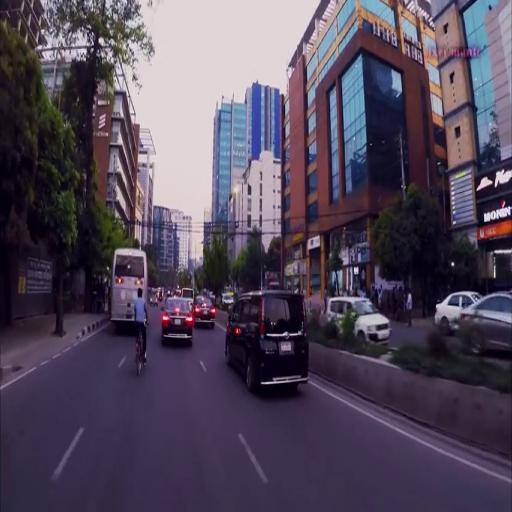bicycle: (134, 328, 149, 376)
bus: (110, 247, 149, 326)
car: (460, 291, 512, 355), (327, 296, 393, 345), (434, 291, 479, 330), (161, 292, 195, 340), (192, 294, 216, 323)
minivan: (223, 289, 310, 389)
three wheelers (CNG): (149, 287, 159, 305)
